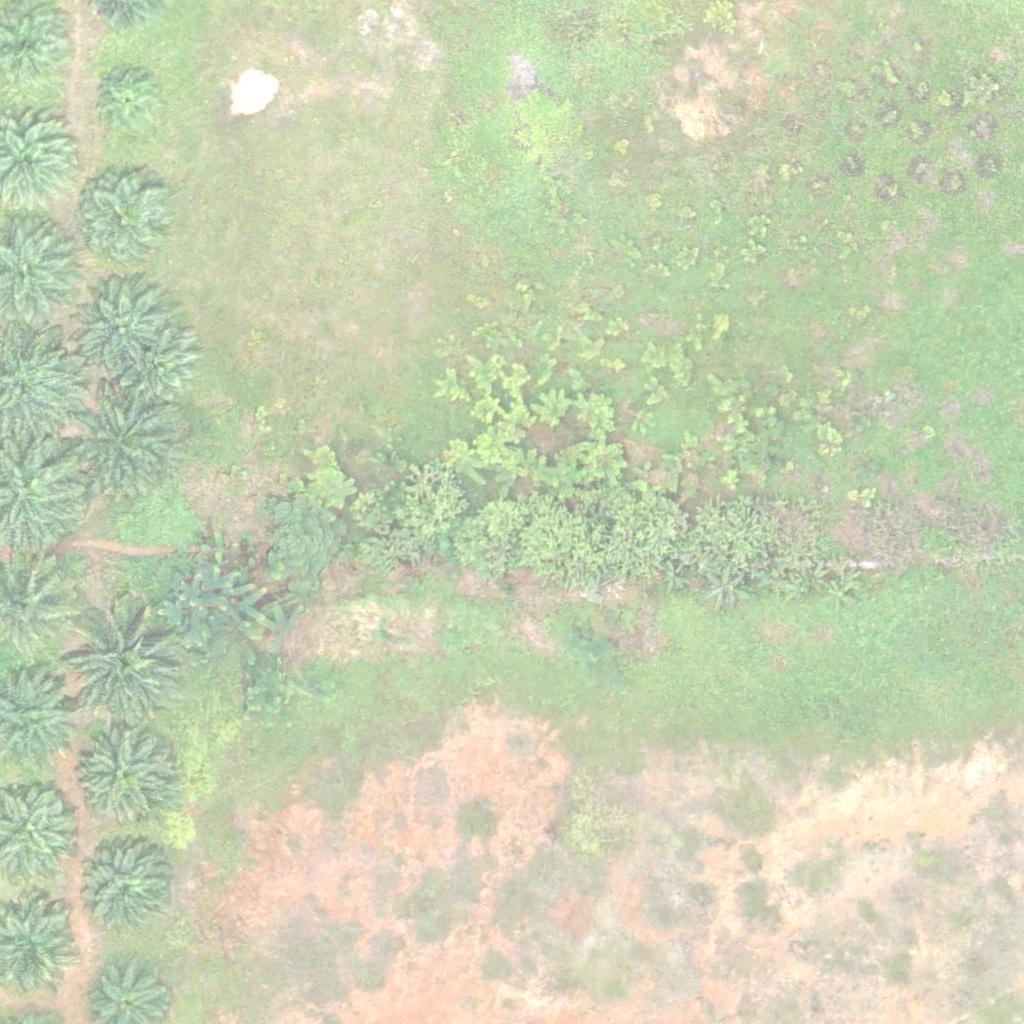Kelapa_Sawit: (67, 395, 180, 508), (70, 610, 182, 723), (74, 724, 174, 825), (76, 838, 176, 938), (83, 177, 170, 265), (76, 284, 163, 372), (111, 324, 198, 412), (99, 70, 162, 133)
